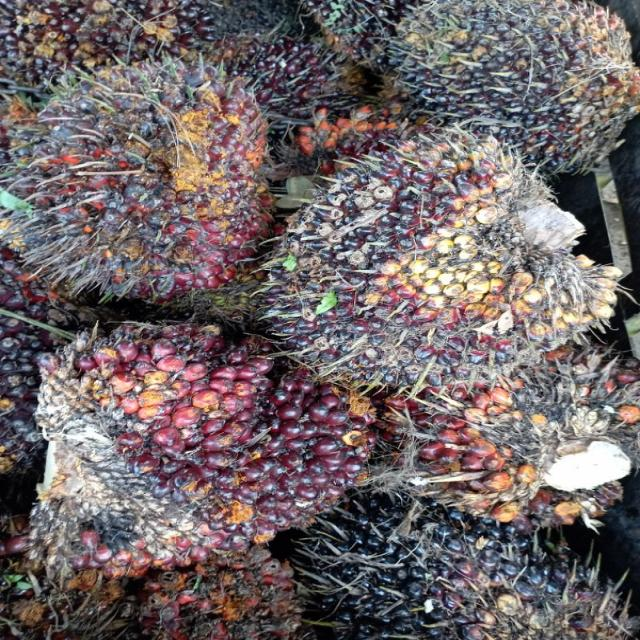fraksi 00: (271, 143, 620, 381), (314, 490, 640, 640), (394, 0, 638, 159)
fraksi 1: (24, 308, 375, 590), (21, 64, 294, 289)
